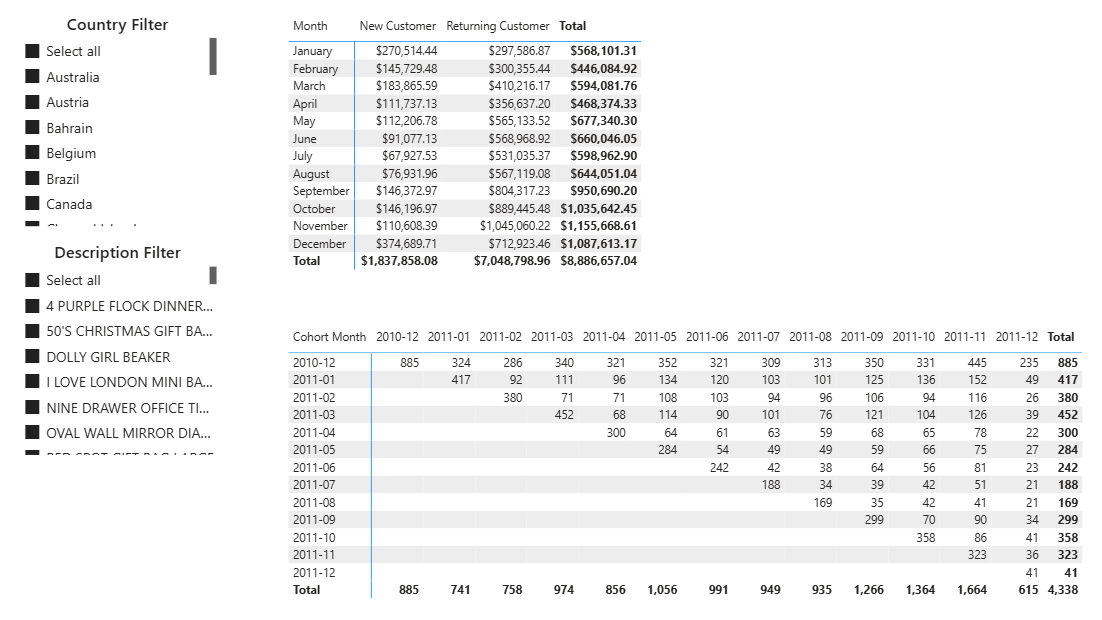

This screenshot's page, from the dashboard's own definition file:
{"tool":"powerbi","page":{"name":"Customer","canvas":[1280,720],"ordinal":1},"visuals":[{"type":"pivotTable","fields":{"Rows":["public fact_sales.invoicedate.Variation.Date Hierarchy.Month"],"Columns":["public fact_sales.Customer Type"],"Values":["public fact_sales.Total Revenue"]},"box":[332.9,17.1,921.4,320],"z":0},{"type":"pivotTable","fields":{"Rows":["public dim_customer.Cohort Month"],"Values":["public fact_sales.Active Customers"],"Columns":["public fact_sales.Order Month"]},"box":[332.9,372.9,921.4,322.9],"z":1000},{"type":"slicer","title":"Country Filter","fields":{"Values":["public dim_customer.country"]},"box":[23.8,17.5,236.2,250],"z":1001},{"type":"slicer","title":"Description Filter","fields":{"Values":["public dim_product.description"]},"box":[23.8,278.8,236.2,250],"z":1002}]}

Visuals, with their boxes in screenshot pixels (x1, y1, x2, y2), scaled from the page's 1280x720 canvas onto the 1102x620 screenshot:
pivotTable - public fact_sales.invoicedate.Variation.Date Hierarchy.Month x public fact_sales.Customer Type: x1=287, y1=15, x2=1080, y2=290
pivotTable - public dim_customer.Cohort Month x public fact_sales.Active Customers: x1=287, y1=321, x2=1080, y2=599
"Country Filter" slicer: x1=20, y1=15, x2=224, y2=230
"Description Filter" slicer: x1=20, y1=240, x2=224, y2=455
